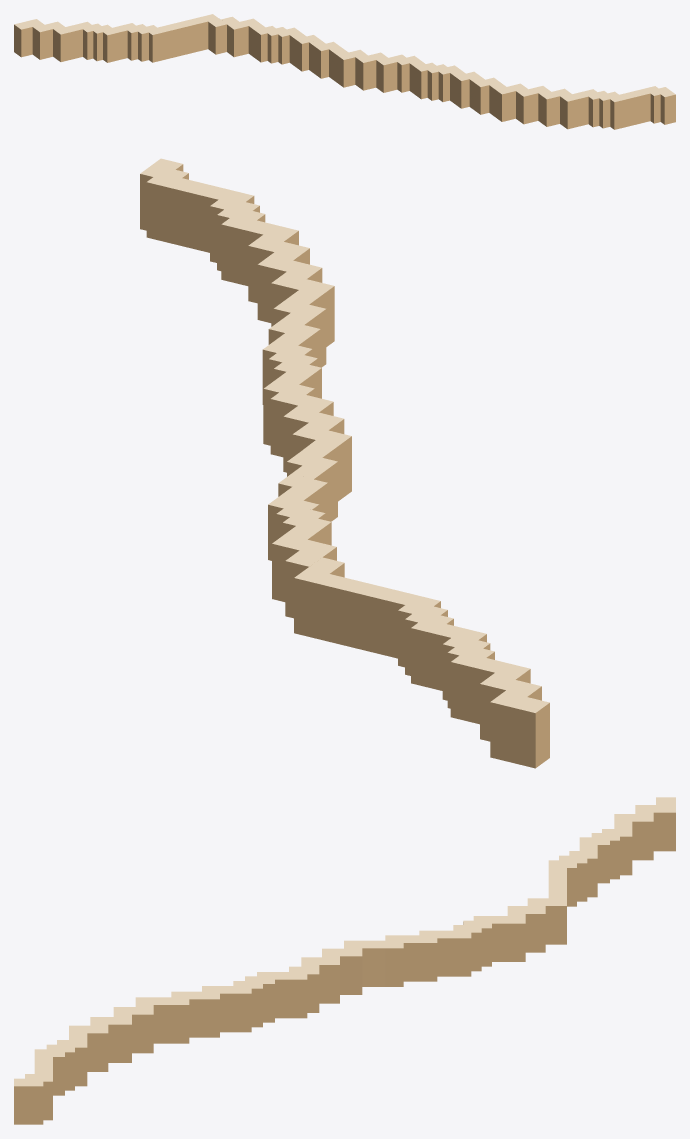
The model's file is Floating_Road.fbx.
3 renders of one model, top to bottom at view 1: azimuth 30°, elevation 25°; view 2: azimuth 150°, elevation 25°; view 3: azimuth 270°, elevation 25°, orthographic. The views are drawn at different scales.
Parts seen in each view (by area): view 1: 16, 20, 19, 15, 10, 18, 11, 1, 14, 24, 25, 12 (+13 smaller); view 2: 10, 16, 1, 24, 11, 15, 20, 19, 18, 7, 21, 14 (+7 smaller); view 3: 16, 15, 18, 19, 20, 14, 11, 25, 12, 1, 17, 2 (+10 smaller).
Part boxes in pixels (x1,y1,x2,y2): 16: [349, 49, 427, 99]; 20: [529, 86, 588, 129]; 19: [485, 77, 538, 124]; 15: [307, 35, 355, 87]; 10: [157, 17, 208, 59]; 18: [447, 65, 489, 114]; 11: [202, 14, 246, 57]; 1: [14, 19, 51, 59]; 14: [276, 27, 312, 71]; 24: [619, 86, 654, 126]; 25: [650, 86, 675, 124]; 12: [240, 18, 271, 62]; 10: [316, 574, 417, 658]; 16: [263, 364, 344, 472]; 1: [490, 681, 549, 768]; 24: [146, 178, 231, 252]; 11: [285, 541, 344, 638]; 15: [278, 430, 351, 521]; 20: [248, 220, 309, 322]; 19: [271, 260, 334, 346]; 18: [262, 304, 326, 404]; 7: [411, 618, 463, 690]; 21: [221, 211, 265, 285]; 14: [268, 477, 327, 560]; 16: [257, 948, 362, 1018]; 15: [344, 935, 437, 986]; 18: [171, 986, 251, 1037]; 19: [113, 997, 189, 1053]; 20: [69, 1014, 131, 1071]; 14: [419, 925, 481, 976]; 11: [507, 898, 566, 952]; 25: [14, 1074, 52, 1124]; 12: [473, 914, 525, 961]; 1: [635, 797, 675, 851]; 17: [233, 976, 274, 1027]; 2: [614, 812, 653, 860].
Bounding box in the file's own units: 15073 × 938 × 14592.
